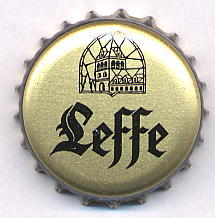leffe: (12, 8, 213, 212)
